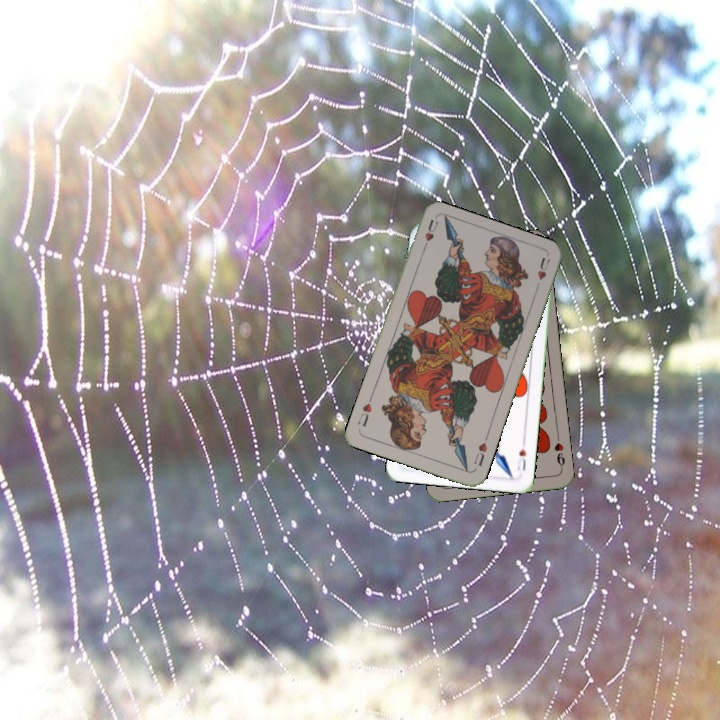H9: (550, 432, 568, 472)
HU: (418, 216, 441, 255), (470, 433, 490, 469), (513, 437, 529, 473)
